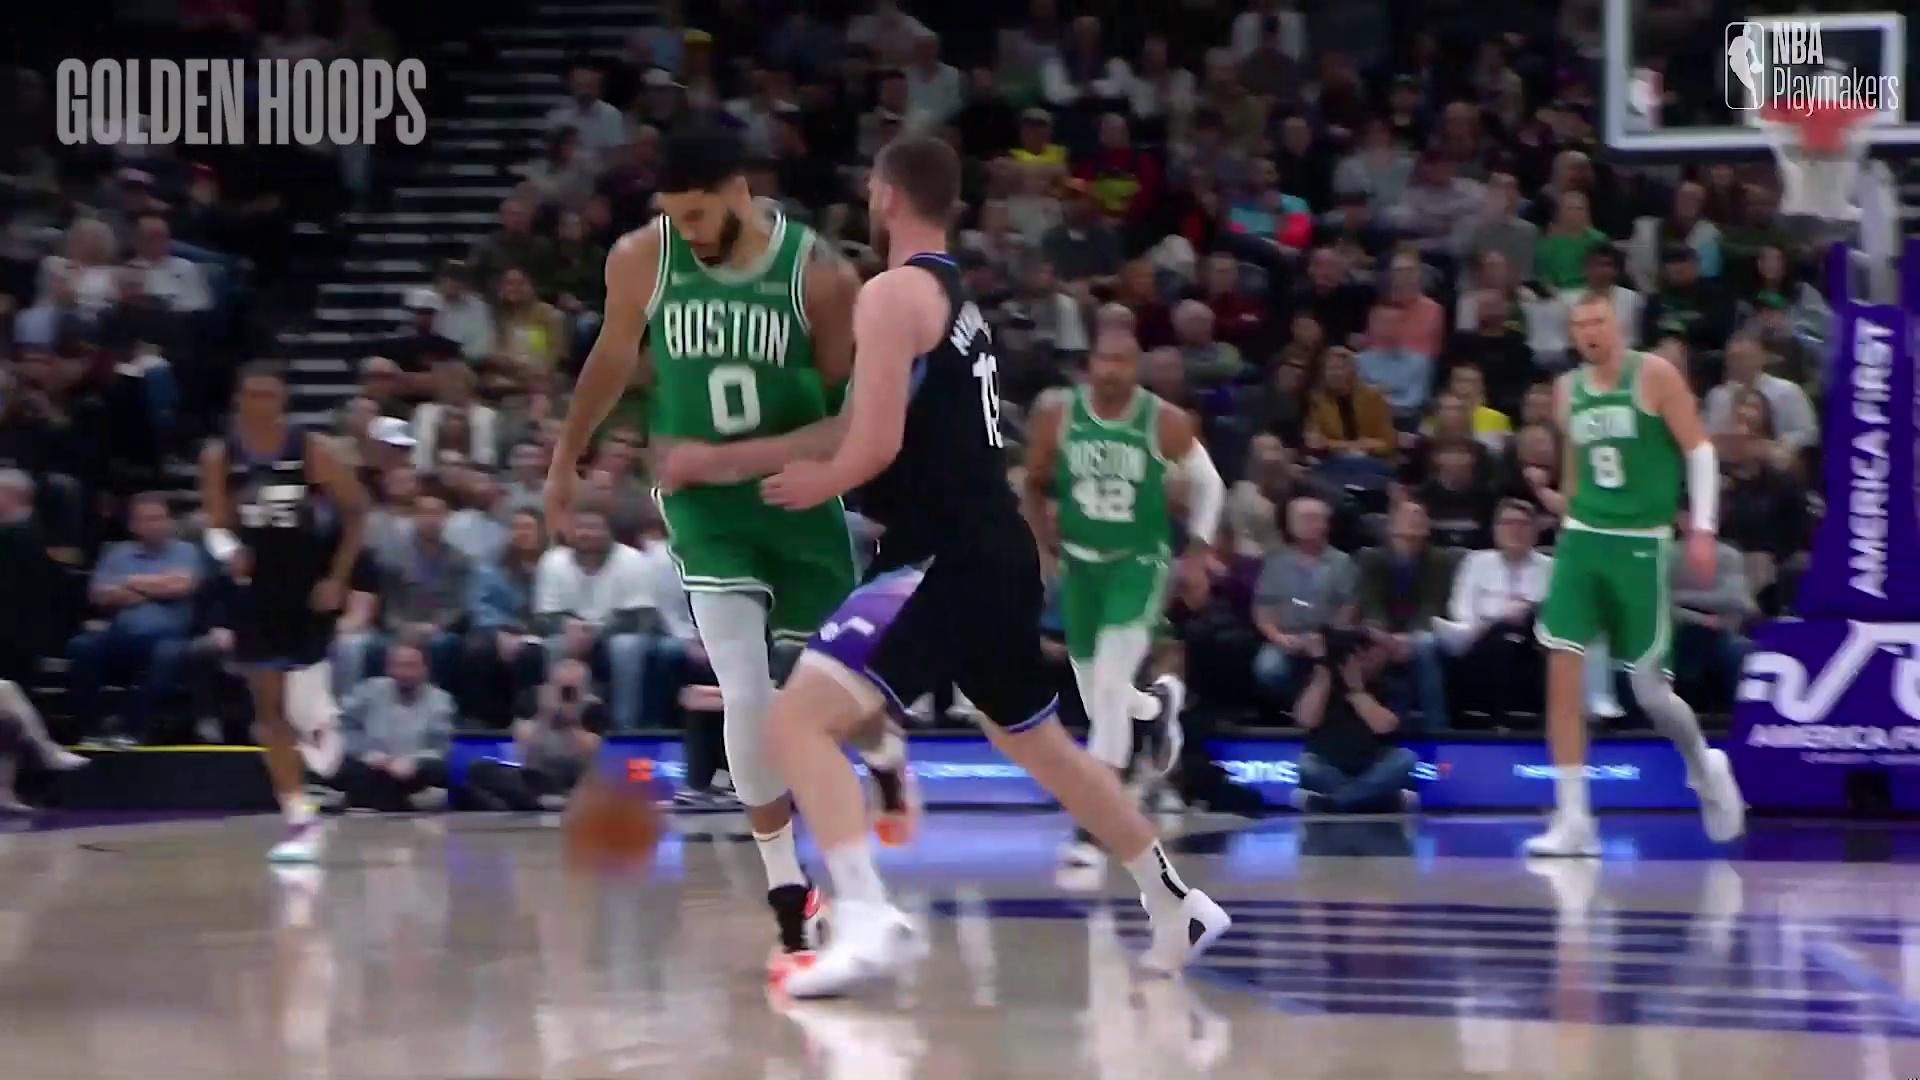ball: (560, 777, 662, 869)
hoop: (1766, 104, 1874, 227)
